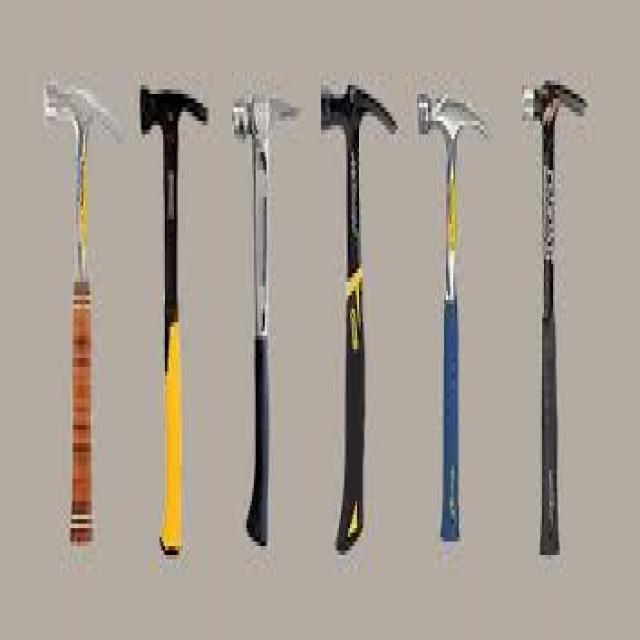hammer: (36, 55, 128, 572), (313, 58, 404, 566), (134, 66, 215, 577), (412, 75, 493, 570), (224, 70, 302, 570), (516, 70, 592, 558)
